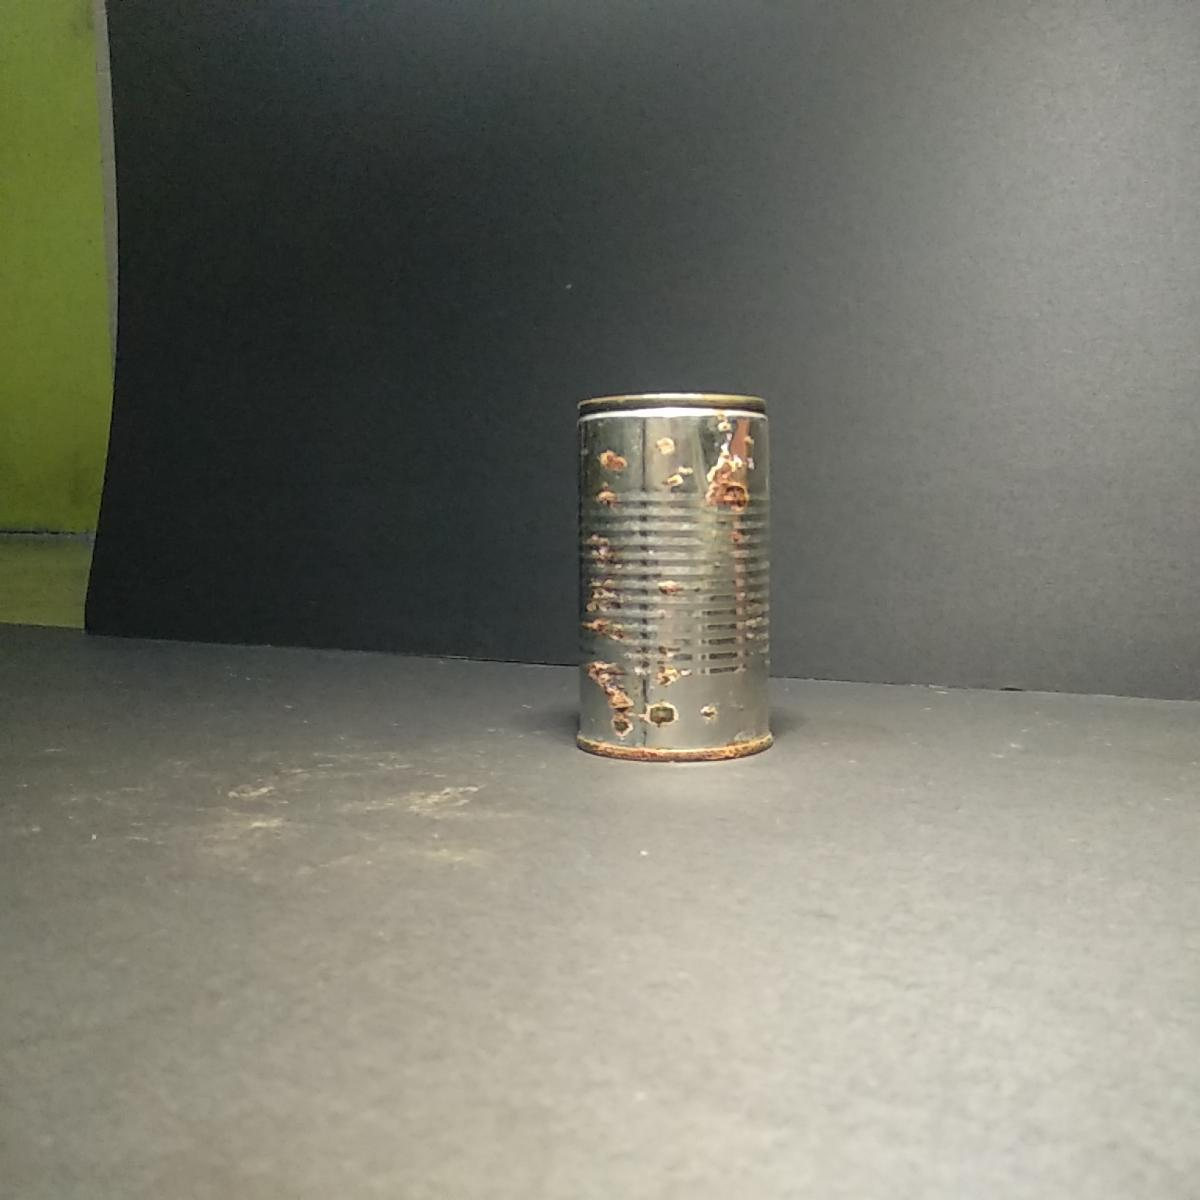Rusted: (564, 376, 788, 773)
